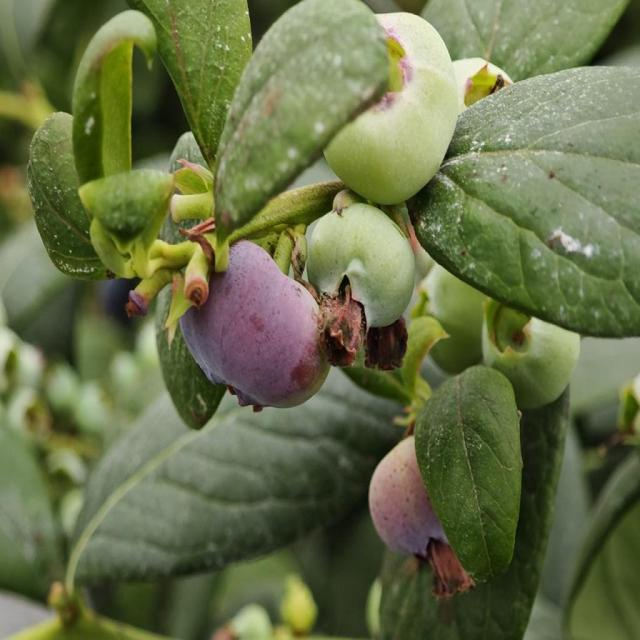Semi-RipeBlueBerry: (180, 239, 334, 412), (368, 437, 464, 568)
UnripeBlueBerry: (319, 10, 462, 206), (308, 203, 418, 336)
